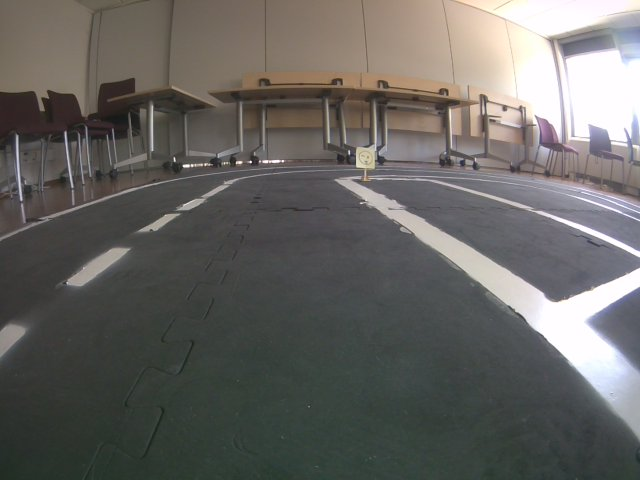Smiley: (353, 145, 376, 169)
